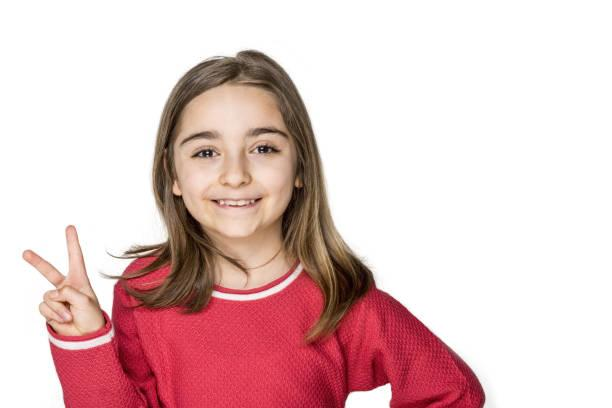peace_sign: (20, 217, 110, 335)
